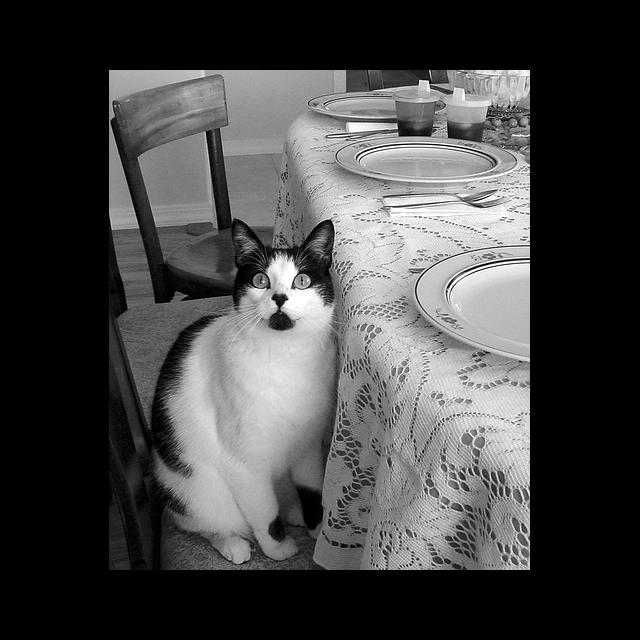animals: (236, 219, 330, 305)
